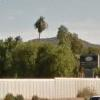Palm tree: (27, 10, 50, 44)
